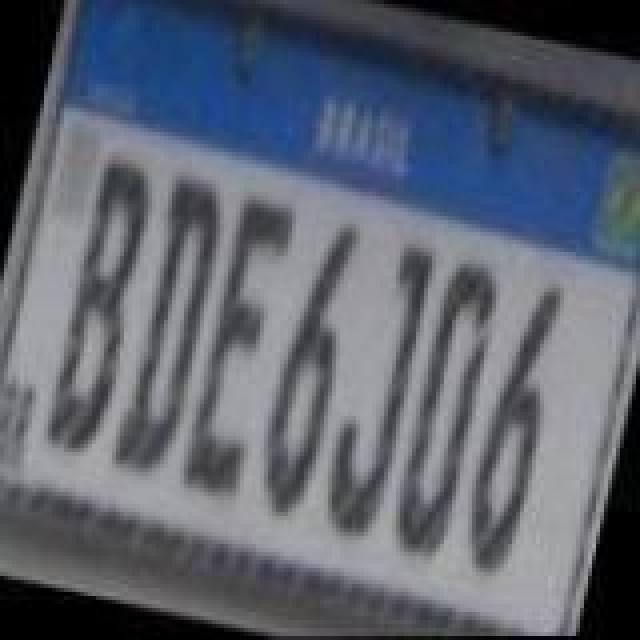6: (248, 208, 376, 524), (452, 274, 576, 586)
B: (34, 148, 166, 468)
D: (102, 164, 234, 488), (386, 260, 506, 564)
E: (176, 190, 304, 506)
J: (308, 232, 440, 548)
